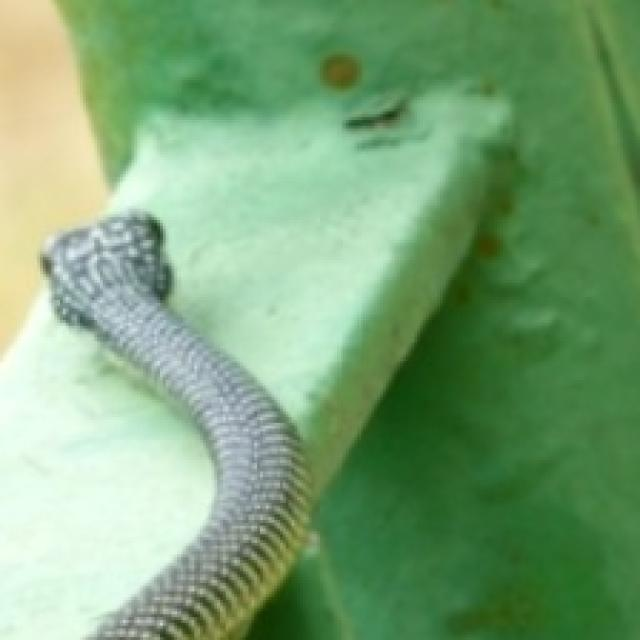paradise tree snake: (43, 211, 309, 637)
